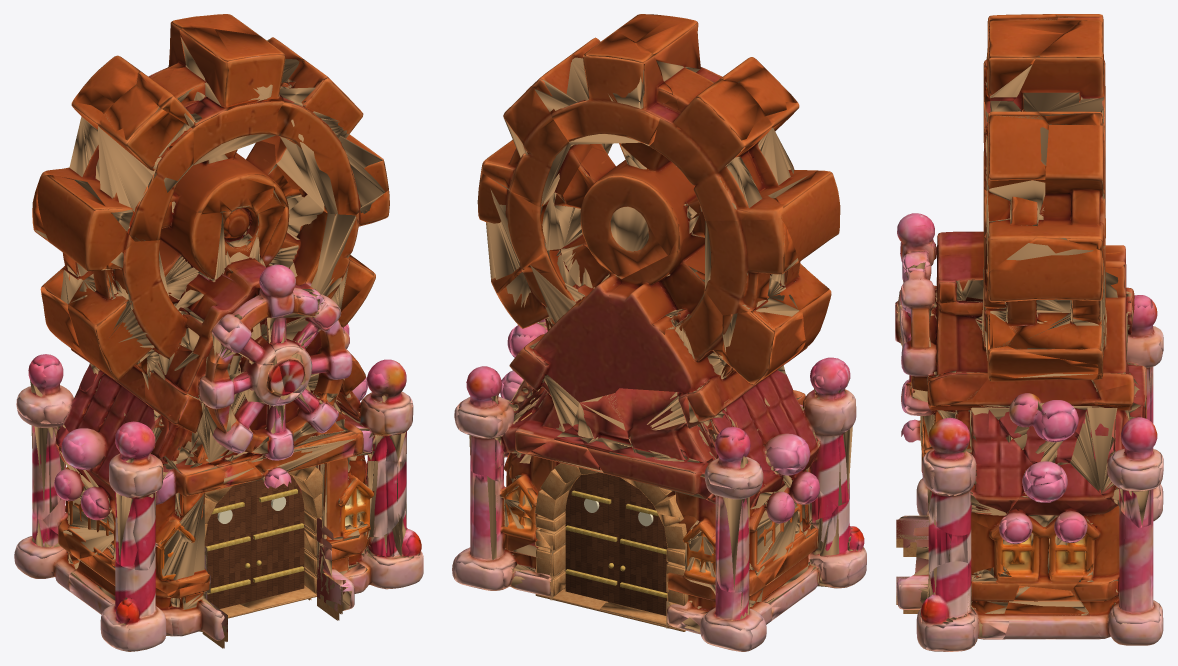
File: GIN_BLD_GingerbreadMill_Fractured.fbx
3 renders of one model, left to right at view 1: azimuth 30°, elevation 25°; view 2: azimuth 150°, elevation 25°; view 3: azimuth 270°, elevation 25°, orthographic. The views are drawn at different scales.
Parts seen in each view (by area): view 1: GIN_BLD_GingerbreadMill_Frag_18, GIN_BLD_GingerbreadMill_Frag_11, GIN_BLD_GingerbreadMill_Frag_30, GIN_BLD_GingerbreadMill_Frag_42, GIN_BLD_GingerbreadMill_Frag_36, GIN_BLD_GingerbreadMill_Frag_21, GIN_BLD_GingerbreadMill_Frag_04, GIN_BLD_GingerbreadMill_Frag_37, GIN_BLD_GingerbreadMill_Frag_26, GIN_BLD_GingerbreadMill_Frag_20, GIN_BLD_GingerbreadMill_Frag_25, GIN_BLD_GingerbreadMill_Frag_27 (+27 smaller); view 2: GIN_BLD_GingerbreadMill_Frag_28, GIN_BLD_GingerbreadMill_Frag_32, GIN_BLD_GingerbreadMill_Frag_35, GIN_BLD_GingerbreadMill_Frag_22, GIN_BLD_GingerbreadMill_Frag_38, GIN_BLD_GingerbreadMill_Frag_08, GIN_BLD_GingerbreadMill_Frag_14, GIN_BLD_GingerbreadMill_Frag_13, GIN_BLD_GingerbreadMill_Frag_23, GIN_BLD_GingerbreadMill_Frag_29, GIN_BLD_GingerbreadMill_Frag_Door_2, GIN_BLD_GingerbreadMill_Frag_01 (+21 smaller); view 3: GIN_BLD_GingerbreadMill_Frag_01, GIN_BLD_GingerbreadMill_Frag_33, GIN_BLD_GingerbreadMill_Frag_12, GIN_BLD_GingerbreadMill_Frag_17, GIN_BLD_GingerbreadMill_Frag_18, GIN_BLD_GingerbreadMill_Frag_13, GIN_BLD_GingerbreadMill_Frag_03, GIN_BLD_GingerbreadMill_Frag_14, GIN_BLD_GingerbreadMill_Frag_39, GIN_BLD_GingerbreadMill_Frag_29, GIN_BLD_GingerbreadMill_Frag_22, GIN_BLD_GingerbreadMill_Frag_09 (+12 smaller).
Part boxes in pixels (x1=…): GIN_BLD_GingerbreadMill_Frag_18: x1=272, y1=59, x2=388, y2=215; GIN_BLD_GingerbreadMill_Frag_11: x1=136, y1=344, x2=284, y2=471; GIN_BLD_GingerbreadMill_Frag_30: x1=87, y1=84, x2=193, y2=241; GIN_BLD_GingerbreadMill_Frag_42: x1=136, y1=27, x2=285, y2=128; GIN_BLD_GingerbreadMill_Frag_36: x1=68, y1=240, x2=170, y2=380; GIN_BLD_GingerbreadMill_Frag_21: x1=109, y1=421, x2=224, y2=570; GIN_BLD_GingerbreadMill_Frag_04: x1=290, y1=460, x2=406, y2=555; GIN_BLD_GingerbreadMill_Frag_37: x1=156, y1=69, x2=277, y2=212; GIN_BLD_GingerbreadMill_Frag_26: x1=159, y1=201, x2=257, y2=314; GIN_BLD_GingerbreadMill_Frag_20: x1=260, y1=189, x2=374, y2=311; GIN_BLD_GingerbreadMill_Frag_25: x1=249, y1=390, x2=356, y2=488; GIN_BLD_GingerbreadMill_Frag_27: x1=165, y1=268, x2=277, y2=365; GIN_BLD_GingerbreadMill_Frag_28: x1=609, y1=250, x2=737, y2=392; GIN_BLD_GingerbreadMill_Frag_32: x1=497, y1=244, x2=621, y2=402; GIN_BLD_GingerbreadMill_Frag_35: x1=654, y1=80, x2=783, y2=220; GIN_BLD_GingerbreadMill_Frag_22: x1=532, y1=31, x2=672, y2=145; GIN_BLD_GingerbreadMill_Frag_38: x1=563, y1=144, x2=697, y2=279; GIN_BLD_GingerbreadMill_Frag_08: x1=608, y1=388, x2=750, y2=517; GIN_BLD_GingerbreadMill_Frag_14: x1=452, y1=469, x2=599, y2=610; GIN_BLD_GingerbreadMill_Frag_13: x1=454, y1=353, x2=579, y2=475; GIN_BLD_GingerbreadMill_Frag_23: x1=699, y1=211, x2=798, y2=315; GIN_BLD_GingerbreadMill_Frag_29: x1=481, y1=85, x2=591, y2=206; GIN_BLD_GingerbreadMill_Frag_Door_2: x1=565, y1=472, x2=625, y2=604; GIN_BLD_GingerbreadMill_Frag_01: x1=477, y1=139, x2=573, y2=294; GIN_BLD_GingerbreadMill_Frag_01: x1=984, y1=231, x2=1105, y2=364; GIN_BLD_GingerbreadMill_Frag_33: x1=992, y1=463, x2=1138, y2=590; GIN_BLD_GingerbreadMill_Frag_12: x1=921, y1=399, x2=1032, y2=535; GIN_BLD_GingerbreadMill_Frag_17: x1=972, y1=346, x2=1098, y2=485; GIN_BLD_GingerbreadMill_Frag_18: x1=983, y1=101, x2=1048, y2=272; GIN_BLD_GingerbreadMill_Frag_13: x1=1069, y1=383, x2=1163, y2=527; GIN_BLD_GingerbreadMill_Frag_03: x1=895, y1=300, x2=987, y2=410; GIN_BLD_GingerbreadMill_Frag_14: x1=1071, y1=522, x2=1163, y2=645; GIN_BLD_GingerbreadMill_Frag_39: x1=916, y1=561, x2=1019, y2=651; GIN_BLD_GingerbreadMill_Frag_29: x1=1042, y1=125, x2=1105, y2=250; GIN_BLD_GingerbreadMill_Frag_22: x1=1013, y1=20, x2=1105, y2=146; GIN_BLD_GingerbreadMill_Frag_09: x1=895, y1=213, x2=983, y2=306.
Size of the model in its own units: 1818 by 3054 by 1328.
